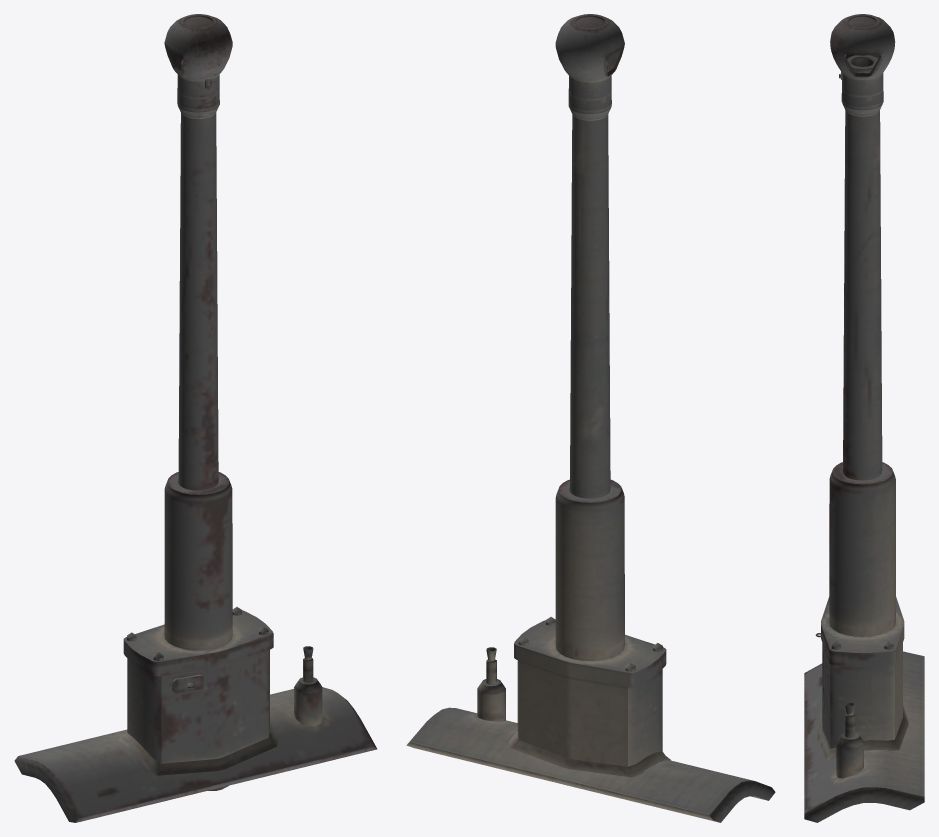
Rendered from Gun_03.glb.
3 renders of one model, left to right at view 1: azimuth 30°, elevation 25°; view 2: azimuth 150°, elevation 25°; view 3: azimuth 270°, elevation 25°, orthographic. The views are drawn at different scales.
Visible parts, largest first — view 1: set_0_group_0; view 2: set_0_group_0; view 3: set_0_group_0.
Part boxes in pixels (x1=…): set_0_group_0: x1=14, y1=14, x2=377, y2=822; set_0_group_0: x1=406, y1=14, x2=775, y2=822; set_0_group_0: x1=804, y1=14, x2=924, y2=822.
Bounding box in the file's own units: 1.18 × 2.8 × 0.4137.
1 material, 1 textured.
